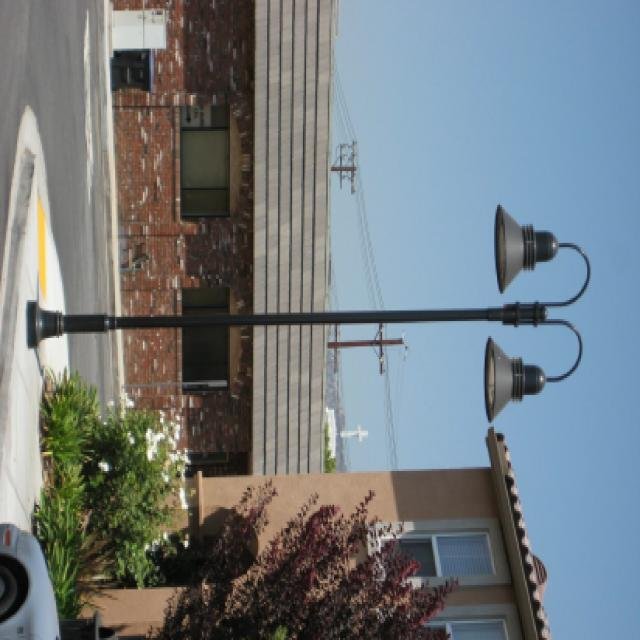Electric pole: (26, 302, 570, 347)
